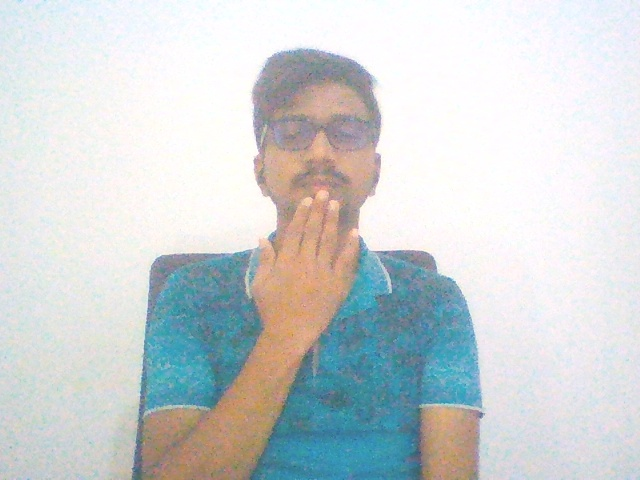mango: (232, 174, 381, 367)
